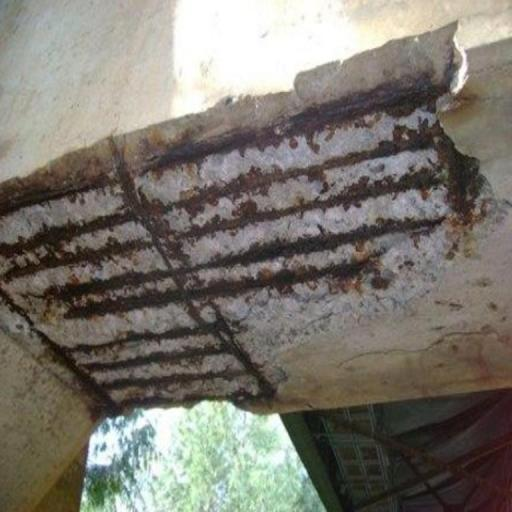spalling: (3, 17, 512, 417)
